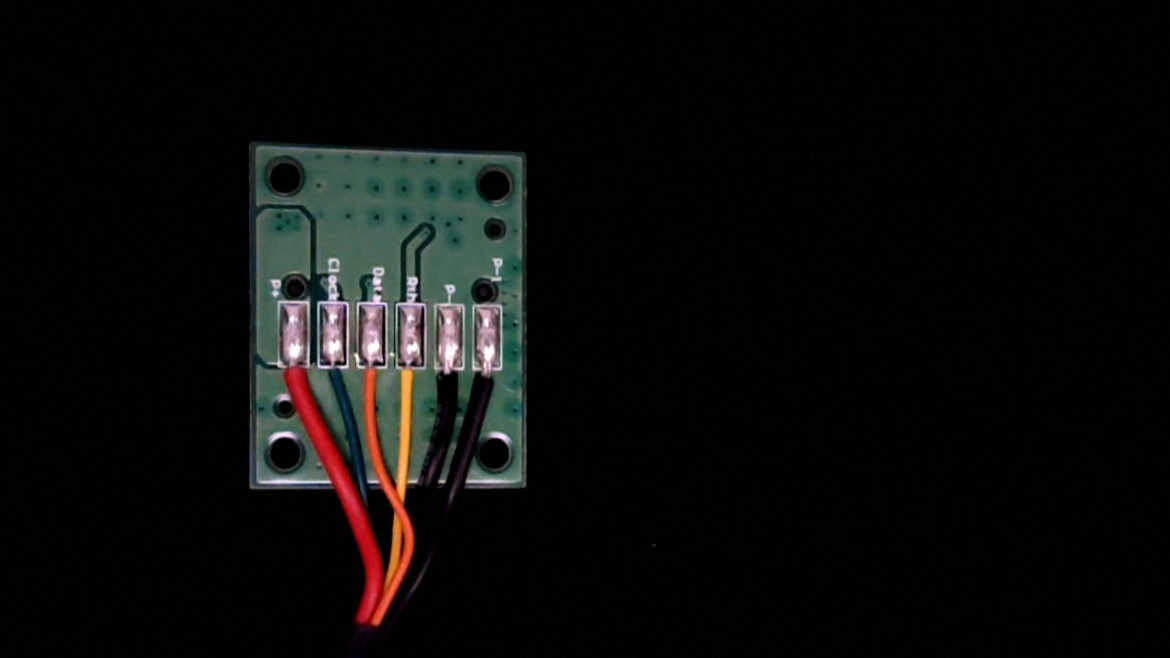Black: (433, 350, 461, 415)
Black1: (473, 352, 501, 414)
Green: (318, 349, 350, 411)
Orange: (354, 349, 387, 413)
Red: (280, 350, 309, 417)
Yellow: (394, 349, 424, 421)
